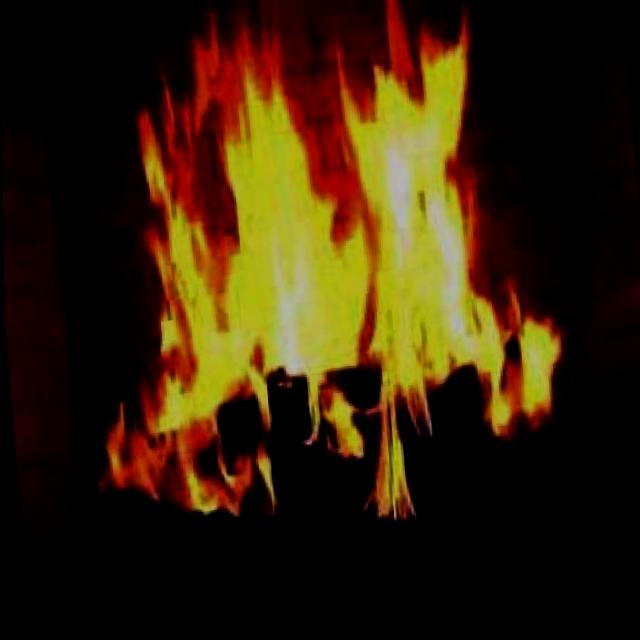helmet: (42, 0, 585, 584)
